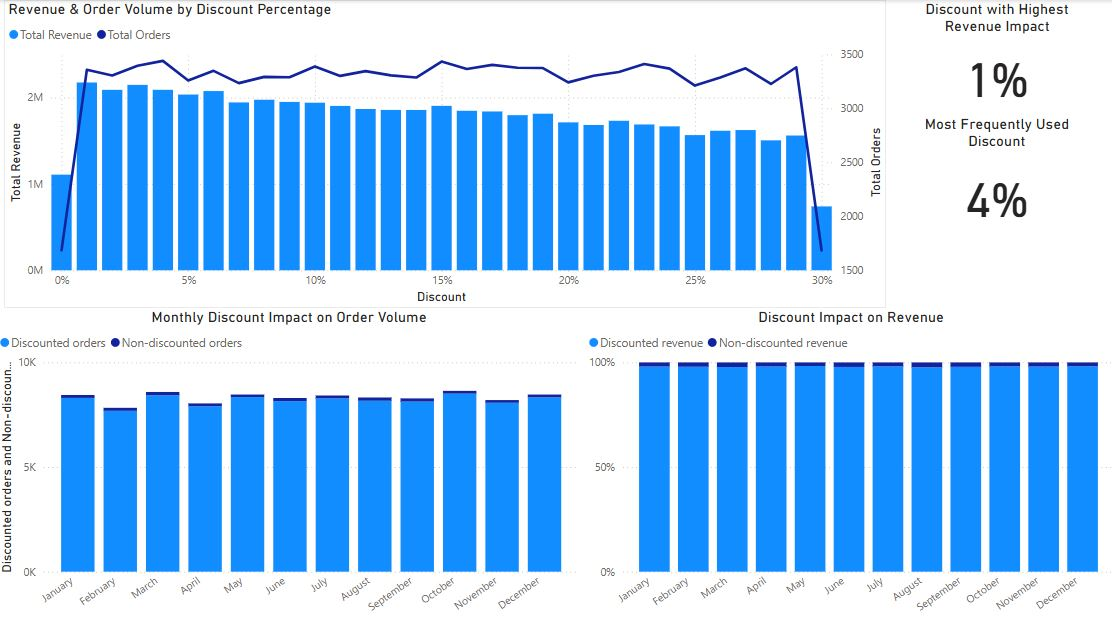

What the dashboard file says about the page in this screenshot:
{"tool":"powerbi","page":{"name":"Discount","canvas":[1280,720],"ordinal":4},"visuals":[{"type":"lineStackedColumnComboChart","title":"Revenue & Order Volume by Discount Percentage","fields":{"Category":["discount.discount_applied"],"Y":["Sum(discount.total_revenue)"],"Y2":["Sum(discount.total_orders)"]},"box":[10,0,1005,351.2],"z":0},{"type":"card","title":"Discount with Highest Revenue Impact","fields":{"Values":["Sum(discount.discount_applied)"]},"box":[1023.8,0,235,131.2],"z":1000},{"type":"card","title":"Most Frequently Used Discount","fields":{"Values":["Sum(discount.discount_applied)"]},"box":[1040,131.2,202.5,142.5],"z":2000},{"type":"hundredPercentStackedColumnChart","title":"Discount Impact on Revenue","fields":{"Y":["Sum(discont_vs_non.discounted_revenue)","discont_vs_non.Sum of total_revenue minus discounted_revenue"],"Category":["discont_vs_non.month.Variation.Date Hierarchy.Month"]},"box":[671.2,351.2,608.8,368.8],"z":3000},{"type":"lineStackedColumnComboChart","title":"Monthly Discount Impact on Order Volume","fields":{"Category":["monthdiscount_impact.month.Variation.Date Hierarchy.Month"],"Y":["Sum(monthdiscount_impact.discounted_orders)","monthdiscount_impact.total_orders minus discounted_orders"]},"box":[0,351.2,670,368.8],"z":4000}]}

Visuals, with their boxes in screenshot pixels (x1, y1, x2, y2), scaled from the page's 1280x720 canvas onto the 1112x621 screenshot:
"Revenue & Order Volume by Discount Percentage" lineStackedColumnComboChart: [x1=9, y1=0, x2=882, y2=303]
"Discount with Highest Revenue Impact" card: [x1=889, y1=0, x2=1094, y2=113]
"Most Frequently Used Discount" card: [x1=904, y1=113, x2=1079, y2=236]
"Discount Impact on Revenue" hundredPercentStackedColumnChart: [x1=583, y1=303, x2=1111, y2=620]
"Monthly Discount Impact on Order Volume" lineStackedColumnComboChart: [x1=0, y1=303, x2=582, y2=620]
